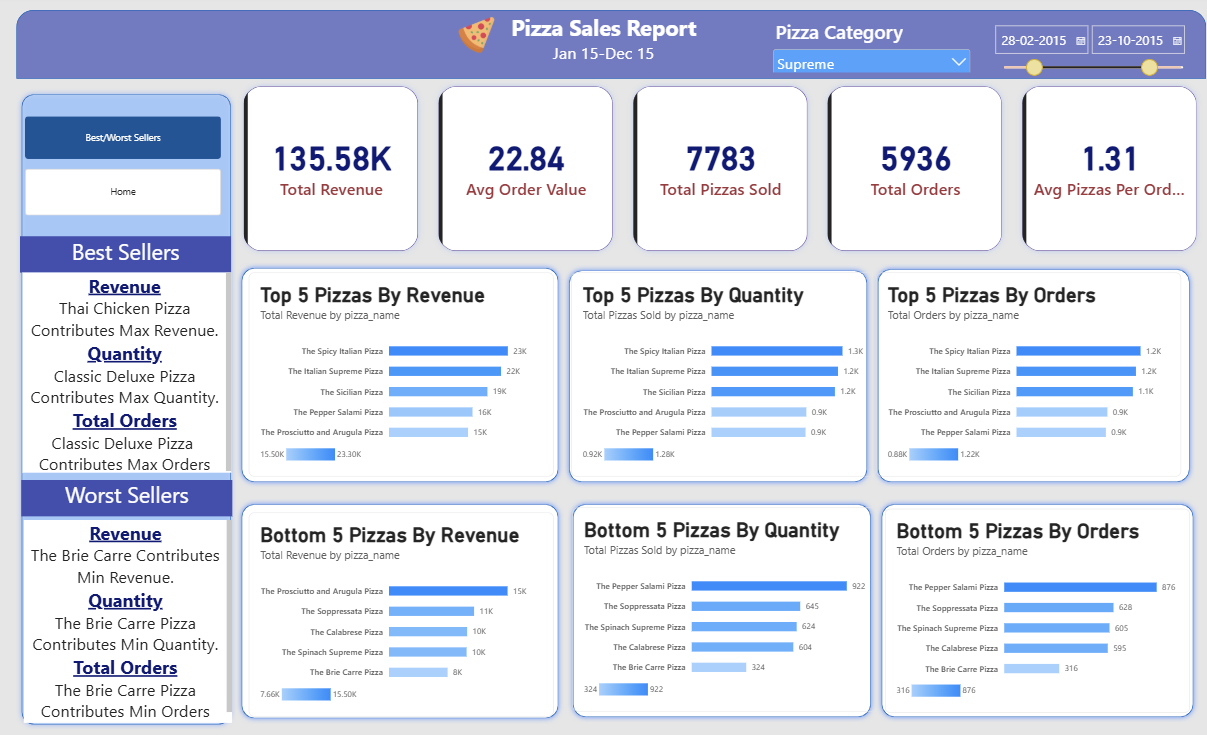

Layout of this report page (visuals, bound fields, positions):
{"tool":"powerbi","page":{"name":"Best/Worst Sellers","canvas":[1800,1100],"ordinal":1},"visuals":[{"type":"cardVisual","fields":{"Data":["pizza_sales_excel_file.Total Revenue","pizza_sales_excel_file.Avg Order Value","pizza_sales_excel_file.Total Pizzas Sold","pizza_sales_excel_file.Total Orders","pizza_sales_excel_file.Avg Pizzas Per Order"]},"box":[348.4,123.5,1430.5,265.5],"z":0},{"type":"shape","box":[24,22.1,1754.7,101.4],"z":1000},{"type":"textbox","box":[672.8,25.8,435,92.2],"z":2000},{"type":"image","box":[670.9,31.3,63.3,55.6],"z":3000},{"type":"shape","box":[348.4,394.4,482.9,331.8],"z":4000},{"type":"shape","box":[24,138.2,324.4,945.5],"z":14000},{"type":"textbox","box":[28.9,355.1,311.5,53.5],"z":15000},{"type":"textbox","box":[32.8,409.1,307.8,294.9],"z":16000},{"type":"textbox","box":[30.9,715.9,311.5,53.5],"z":17000},{"type":"textbox","box":[34.7,773.8,306.8,299.1],"z":18000},{"type":"slicer","fields":{"Values":["pizza_sales_excel_file.pizza_category"]},"box":[1135.4,35,300.4,79.3],"z":19000},{"type":"slicer","fields":{"Values":["pizza_sales_excel_file.order_date"]},"box":[1459.8,25.8,300.4,99.5],"z":20000},{"type":"shape","box":[831.3,398.1,455.3,328.1],"z":20001},{"type":"shape","box":[1286.5,396.3,475.5,329.9],"z":20002},{"type":"shape","box":[348.4,742.8,482.9,331.8],"z":20003},{"type":"shape","box":[836.8,742.8,455.3,329.9],"z":20004},{"type":"shape","box":[1292.1,742.8,475.5,329.9],"z":20005},{"type":"barChart","title":"Top 5 Pizzas By Revenue","fields":{"Category":["pizza_sales_excel_file.pizza_name"],"Y":["pizza_sales_excel_file.Total Revenue"]},"box":[366.6,409.1,449.6,301],"z":20006},{"type":"barChart","title":"Bottom 5 Pizzas By Revenue","fields":{"Category":["pizza_sales_excel_file.pizza_name"],"Y":["pizza_sales_excel_file.Total Revenue"]},"box":[366.8,763.1,449.6,301],"z":20007},{"type":"barChart","title":"Top 5 Pizzas By Quantity","fields":{"Category":["pizza_sales_excel_file.pizza_name"],"Y":["pizza_sales_excel_file.Total Pizzas Sold"]},"box":[842.3,409.2,449.6,301],"z":20008},{"type":"barChart","title":"Bottom 5 Pizzas By Quantity","fields":{"Category":["pizza_sales_excel_file.pizza_name"],"Y":["pizza_sales_excel_file.Total Pizzas Sold"]},"box":[843.3,756.4,449.6,301],"z":20009},{"type":"barChart","title":"Top 5 Pizzas By Orders","fields":{"Category":["pizza_sales_excel_file.pizza_name"],"Y":["pizza_sales_excel_file.Total Orders"]},"box":[1292.9,409.1,449.6,301],"z":20010},{"type":"barChart","title":"Bottom 5 Pizzas By Orders","fields":{"Category":["pizza_sales_excel_file.pizza_name"],"Y":["pizza_sales_excel_file.Total Orders"]},"box":[1305,757.5,449.6,301],"z":20011},{"type":"pageNavigator","box":[36.7,179.5,289.5,63.7],"z":20012},{"type":"pageNavigator","box":[36.7,256.6,289.5,69.5],"z":20013}]}

Visuals, with their boxes in screenshot pixels (x1, y1, x2, y2), scaled from the page's 1800x1100 canvas onto the 1207x735 screenshot:
cardVisual - pizza_sales_excel_file.Total Revenue x pizza_sales_excel_file.Avg Order Value: detection(234, 83, 1193, 260)
shape: detection(16, 15, 1193, 83)
textbox: detection(451, 17, 743, 79)
image: detection(450, 21, 492, 58)
shape: detection(234, 264, 557, 485)
shape: detection(16, 92, 234, 724)
textbox: detection(19, 237, 228, 273)
textbox: detection(22, 273, 228, 470)
textbox: detection(21, 478, 230, 514)
textbox: detection(23, 517, 229, 717)
slicer - pizza_sales_excel_file.pizza_category: detection(761, 23, 963, 76)
slicer - pizza_sales_excel_file.order_date: detection(979, 17, 1180, 84)
shape: detection(557, 266, 863, 485)
shape: detection(863, 265, 1182, 485)
shape: detection(234, 496, 557, 718)
shape: detection(561, 496, 866, 717)
shape: detection(866, 496, 1185, 717)
"Top 5 Pizzas By Revenue" barChart: detection(246, 273, 547, 474)
"Bottom 5 Pizzas By Revenue" barChart: detection(246, 510, 547, 711)
"Top 5 Pizzas By Quantity" barChart: detection(565, 273, 866, 475)
"Bottom 5 Pizzas By Quantity" barChart: detection(565, 505, 867, 707)
"Top 5 Pizzas By Orders" barChart: detection(867, 273, 1168, 474)
"Bottom 5 Pizzas By Orders" barChart: detection(875, 506, 1177, 707)
pageNavigator: detection(25, 120, 219, 163)
pageNavigator: detection(25, 171, 219, 218)
